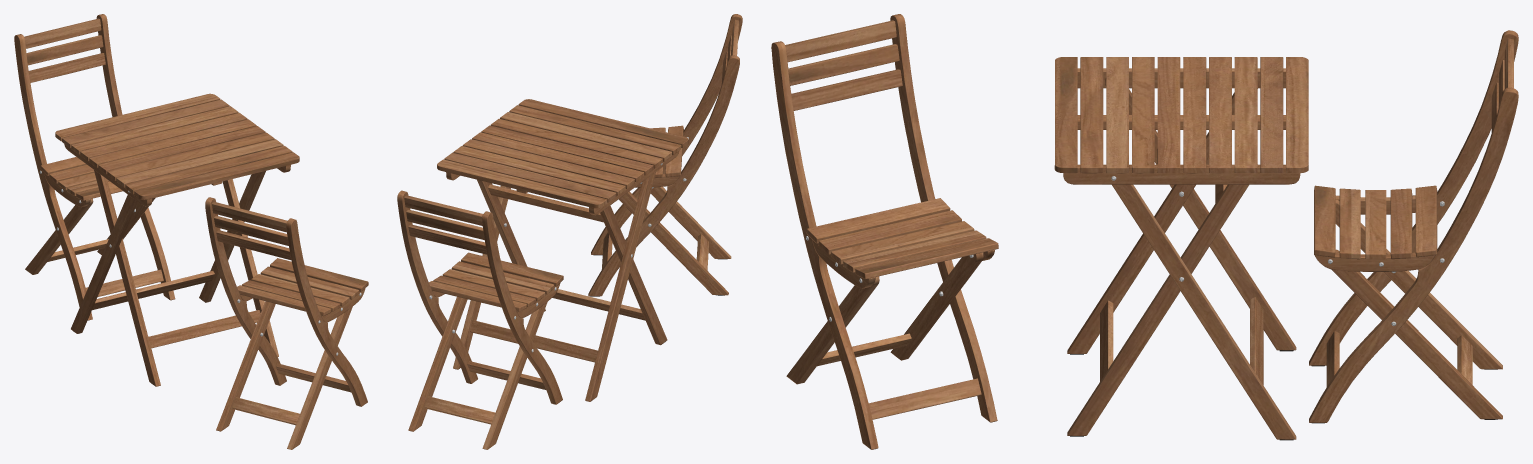
The model's file is askholmen_sto_ogrodowy_i_2_skadane_krzesa_79529098.glb.
3 renders of one model, left to right at view 1: azimuth 30°, elevation 25°; view 2: azimuth 150°, elevation 25°; view 3: azimuth 270°, elevation 25°, orthographic. The views are drawn at different scales.
Visible parts, largest first — view 1: askholmen_sto_ogrodowy_i_2_skadane_krzesa_79529098; view 2: askholmen_sto_ogrodowy_i_2_skadane_krzesa_79529098; view 3: askholmen_sto_ogrodowy_i_2_skadane_krzesa_79529098.
Part boxes in pixels (x1,y1,x2,y2): askholmen_sto_ogrodowy_i_2_skadane_krzesa_79529098: (14, 14, 368, 449); askholmen_sto_ogrodowy_i_2_skadane_krzesa_79529098: (397, 14, 742, 449); askholmen_sto_ogrodowy_i_2_skadane_krzesa_79529098: (771, 14, 1518, 449).
Size of the model in its own units: 0.6273 by 0.8695 by 1.77.
1 material, 1 textured.
